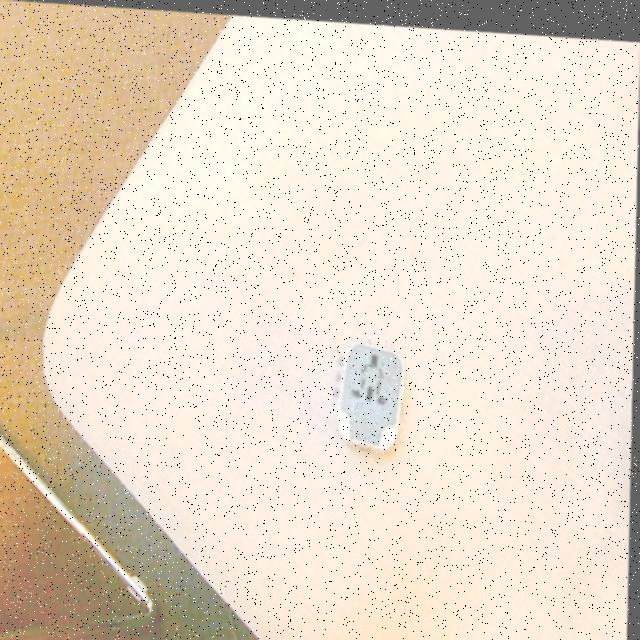adapter: (334, 332, 407, 448)
